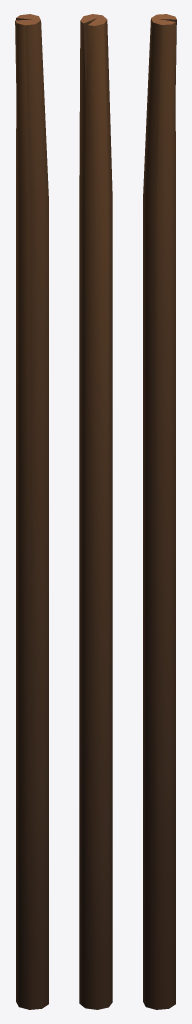
Rendered from Wooden_Pole_1B.fbx.
The picture shows the model from 3 angles, left to right: view 1: azimuth 90°, elevation 25°; view 2: azimuth 150°, elevation 25°; view 3: azimuth 270°, elevation 25°; orthographic projection.
Visible parts, largest first — view 1: Wooden_Pole_1B; view 2: Wooden_Pole_1B; view 3: Wooden_Pole_1B.
Part boxes in pixels (left/top/right/bottom): Wooden_Pole_1B: left=15, top=14, right=48, bottom=1009; Wooden_Pole_1B: left=79, top=14, right=112, bottom=1009; Wooden_Pole_1B: left=143, top=14, right=176, bottom=1009.
Size of the model in its own units: 29.71 by 983 by 30.65.
